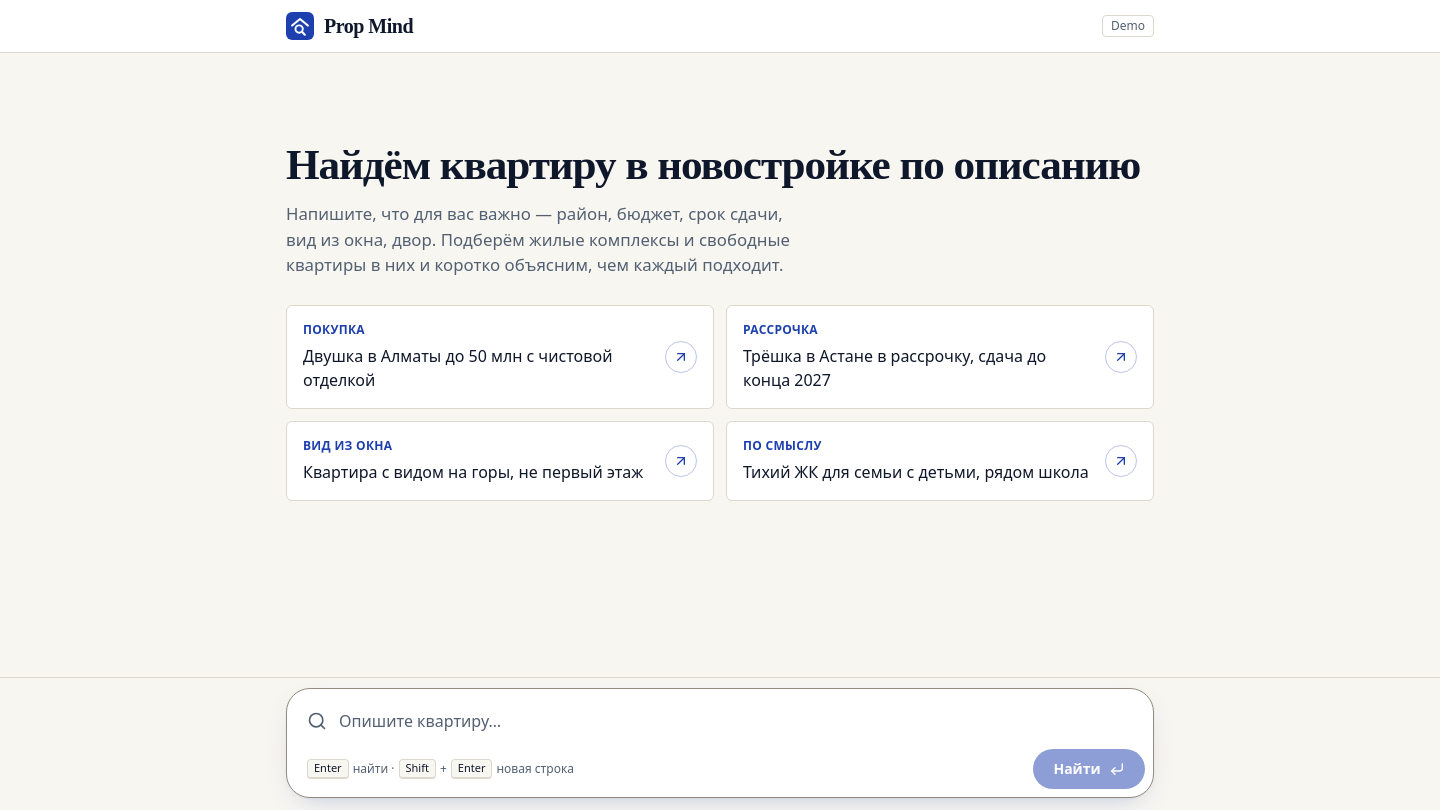
Test: API without labels, groups or status does not blank the page
Type "двушка" into the text box named "Запрос" at (736, 721), box [339,701,1133,741]
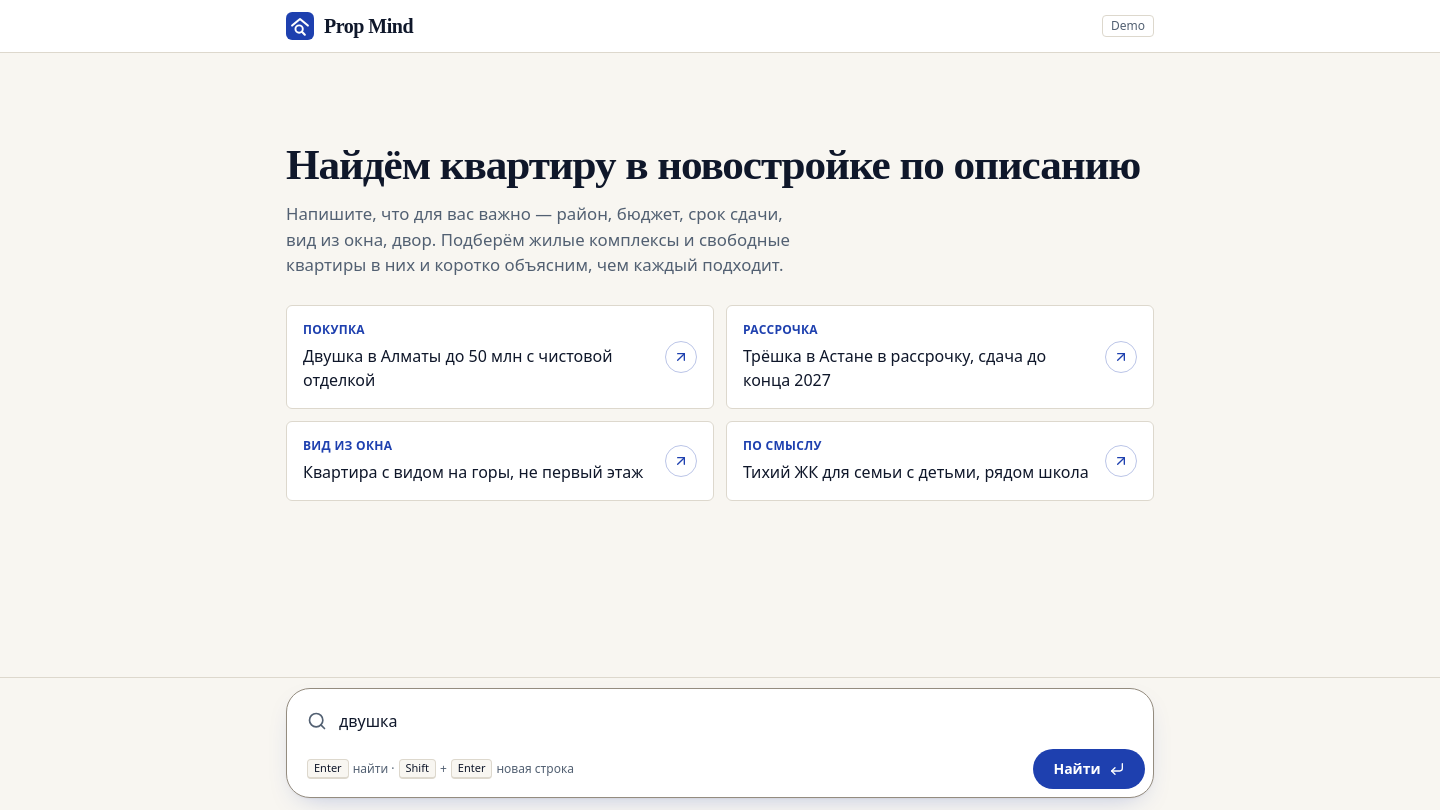
Press Enter in the text box named "Запрос", box [339,701,1133,741]
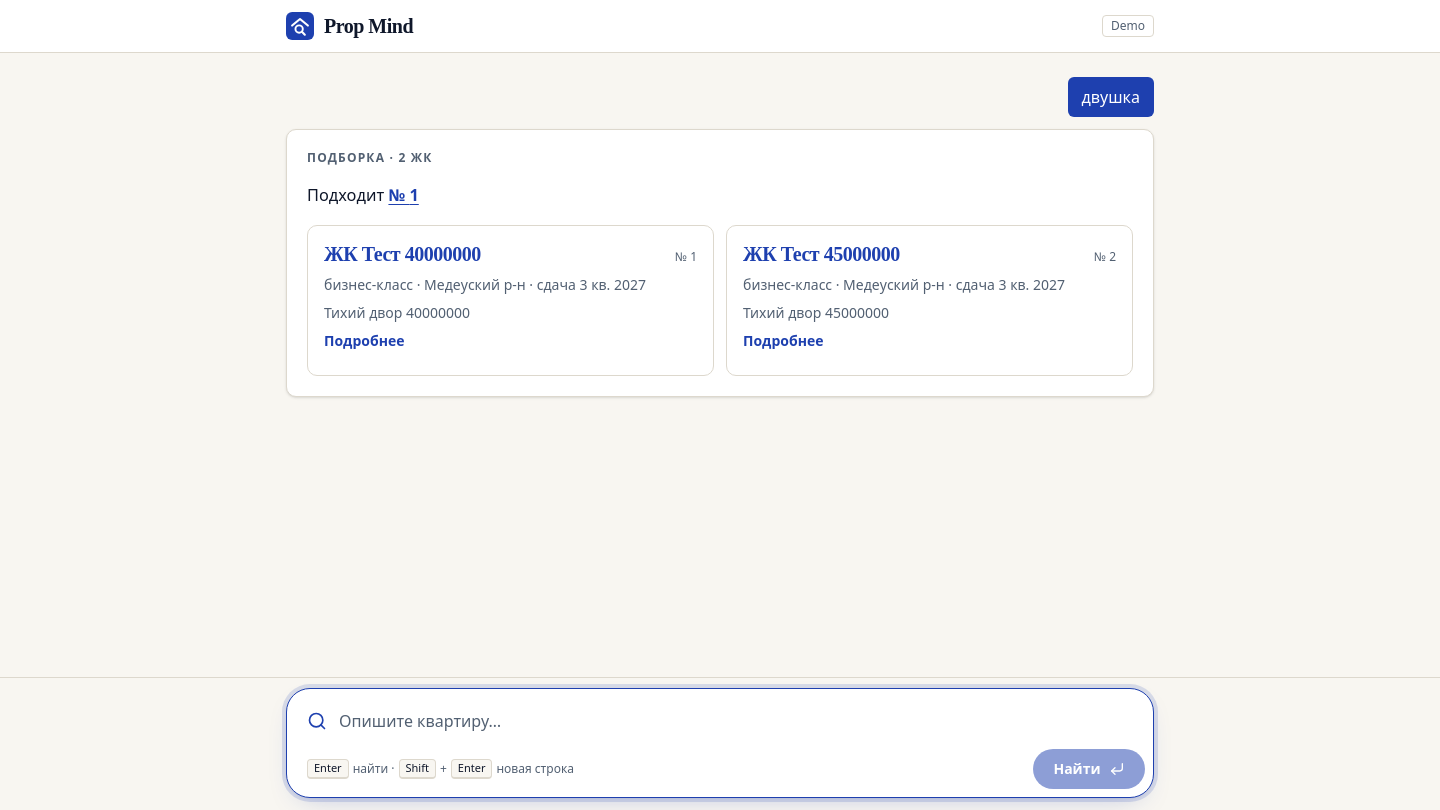
Expected: the number of elements with class "complex" is 2, [307,224,714,376]; [726,224,1133,376]
Expected: the link reads "№ 1", [388,184,419,206]
